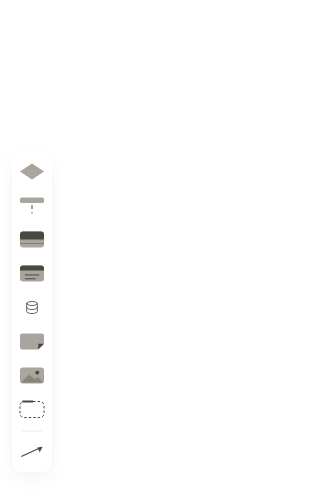
Test: ShapePalette › toggles a group closed when its button is clicked again
Click the 1st button named "Flowchart". click: (32, 172)
box: [16,156,48,188]
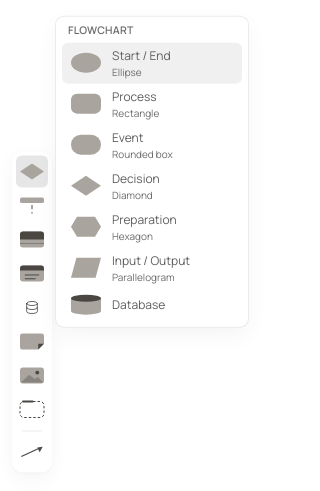
Expected: the menu is shown, [56,17,248,326]
Click the button named "Flowchart" below "Flowchart". click: (32, 172)
box: [16,156,48,188]
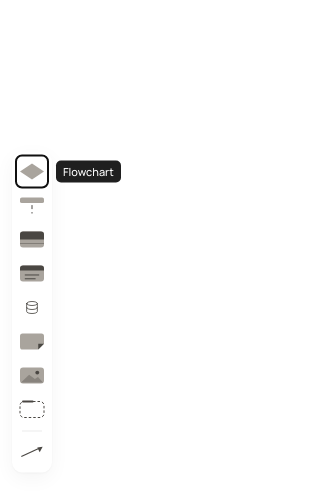
Expected: the menu is gone
